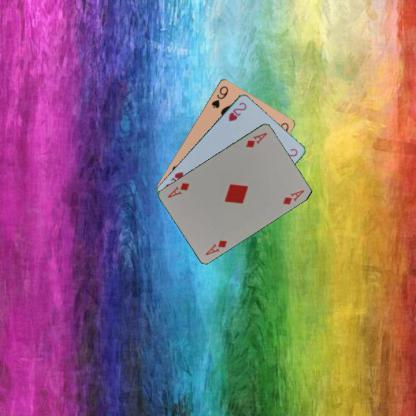2h: (226, 100, 248, 122)
9s: (209, 83, 230, 109)
Ad: (202, 236, 228, 256), (244, 130, 268, 148)
